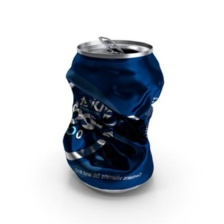can: (55, 35, 167, 196)
